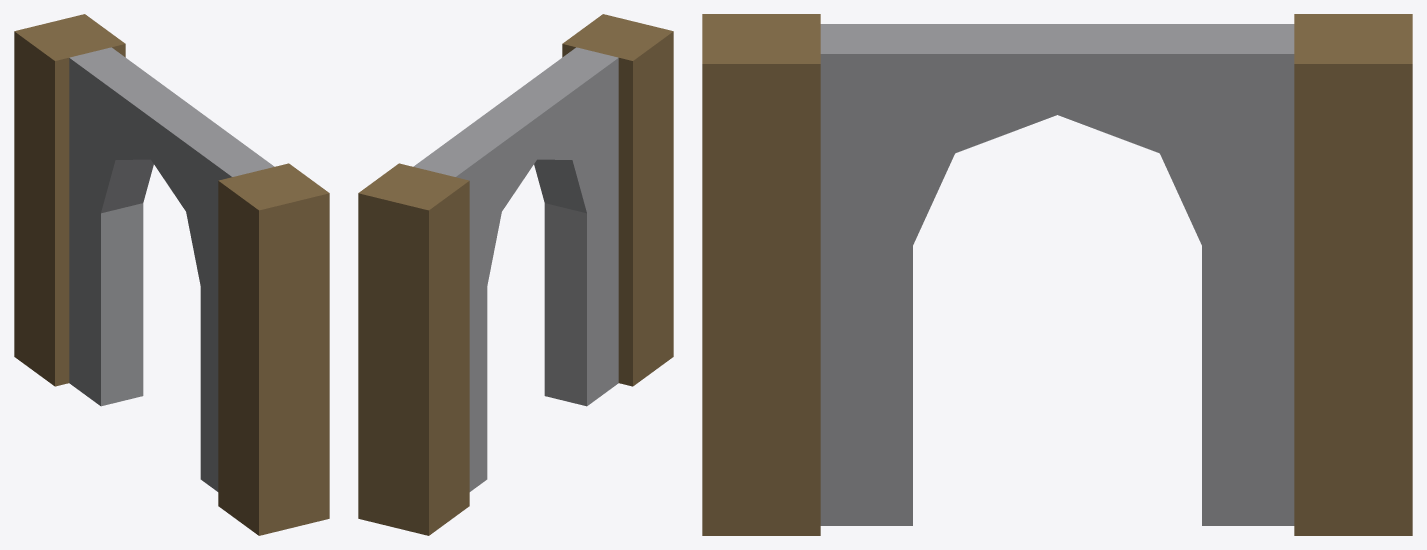
The model's file is Wood_Door_Round_01.obj.
3 renders of one model, left to right at view 1: azimuth 30°, elevation 25°; view 2: azimuth 150°, elevation 25°; view 3: azimuth 270°, elevation 25°, orthographic. The views are drawn at different scales.
Parts seen in each view (by area): view 1: Mesh1_Wood_Door_Round_Model; view 2: Mesh1_Wood_Door_Round_Model; view 3: Mesh1_Wood_Door_Round_Model.
Part boxes in pixels (box(x1,y1,x2,y2)): Mesh1_Wood_Door_Round_Model: box(14, 14, 329, 535); Mesh1_Wood_Door_Round_Model: box(358, 14, 673, 535); Mesh1_Wood_Door_Round_Model: box(702, 14, 1412, 535).
Size of the model in its own units: 0.5 by 2.2 by 3.
